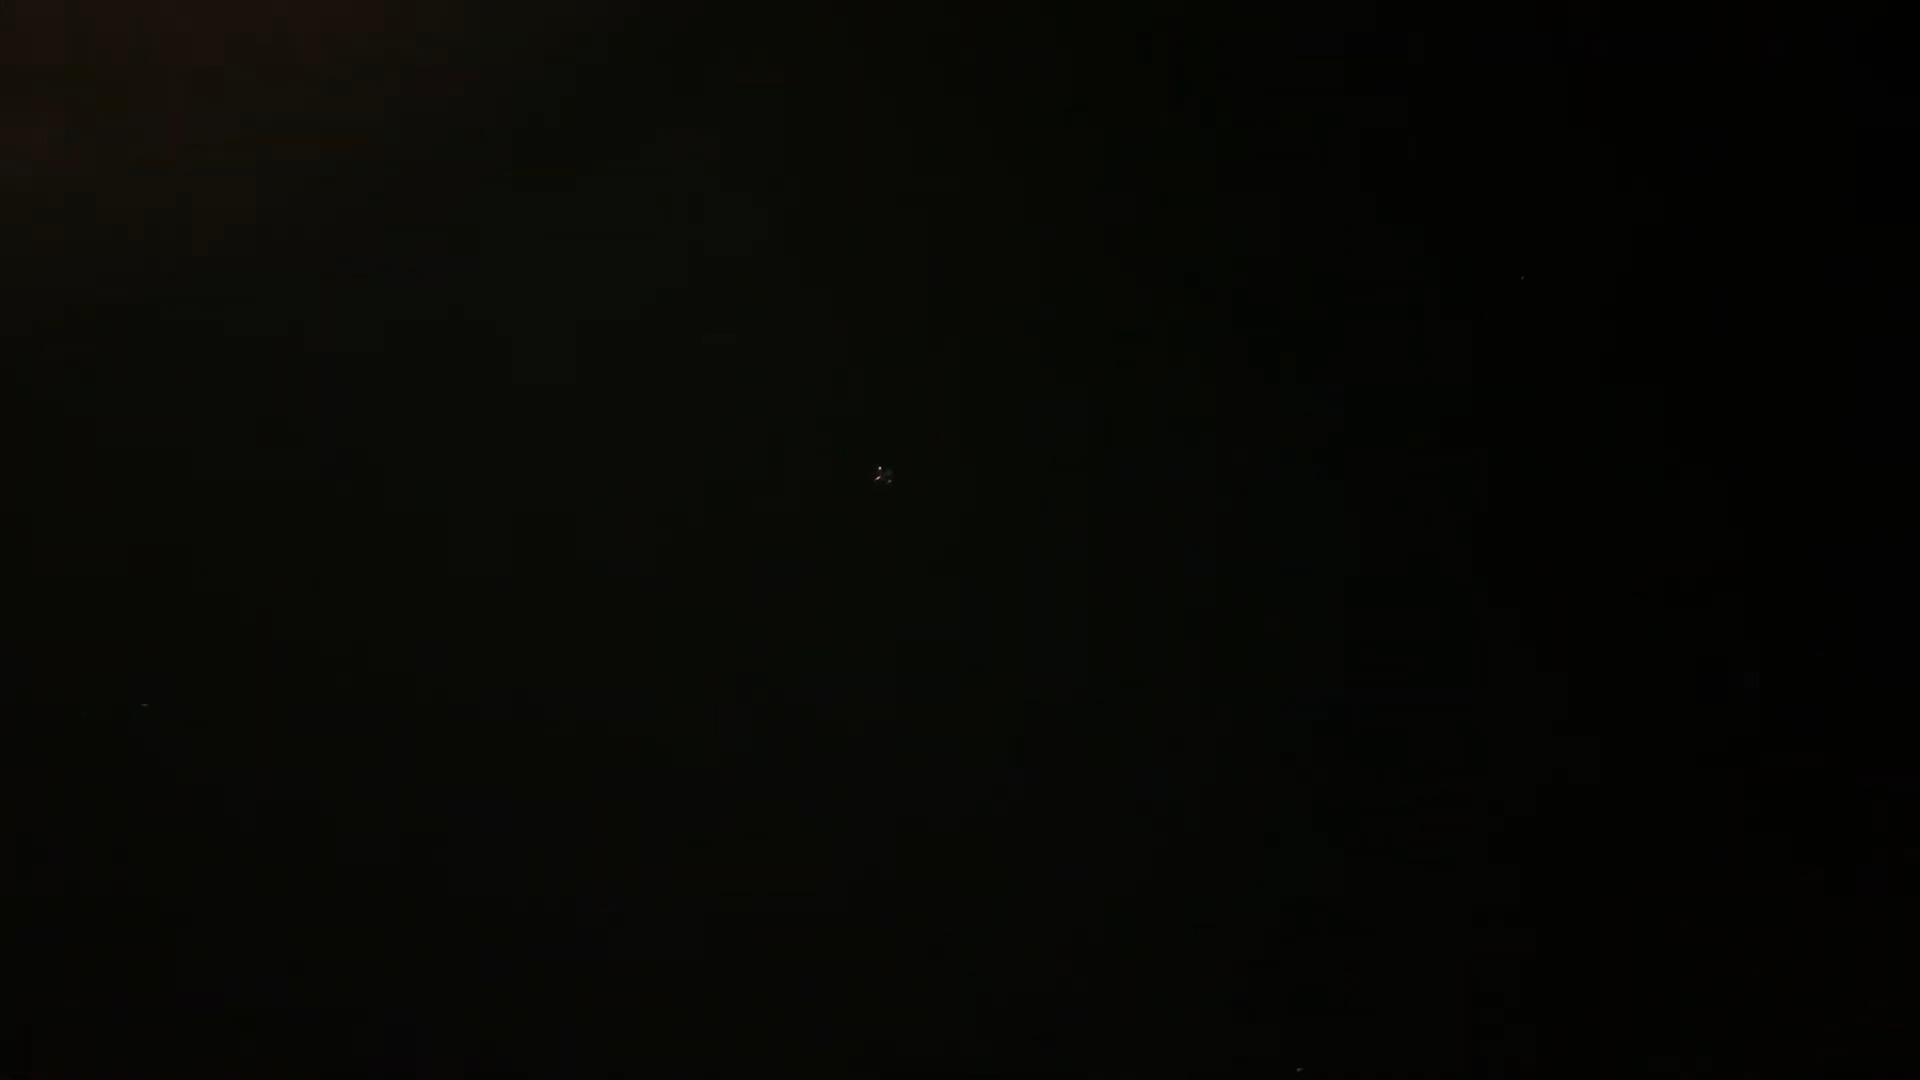Plane: (851, 451, 915, 501)
